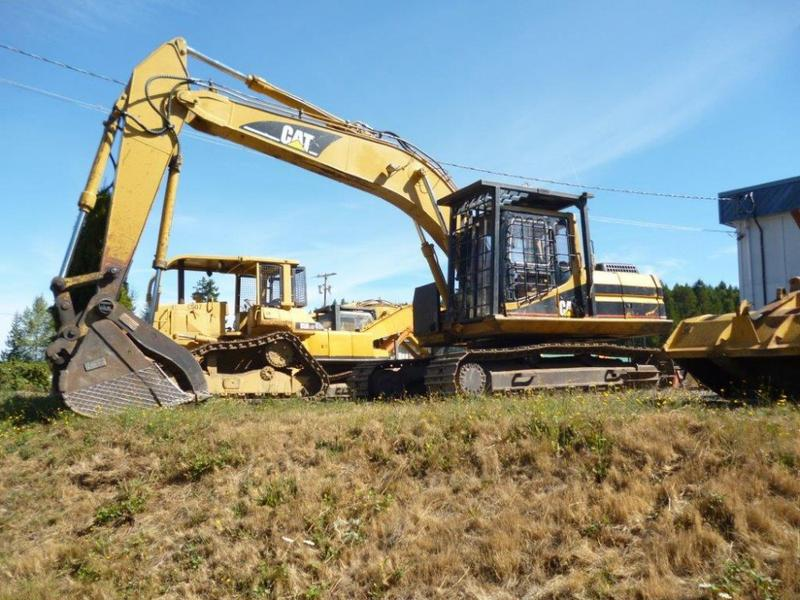shovel: (46, 27, 683, 412)
